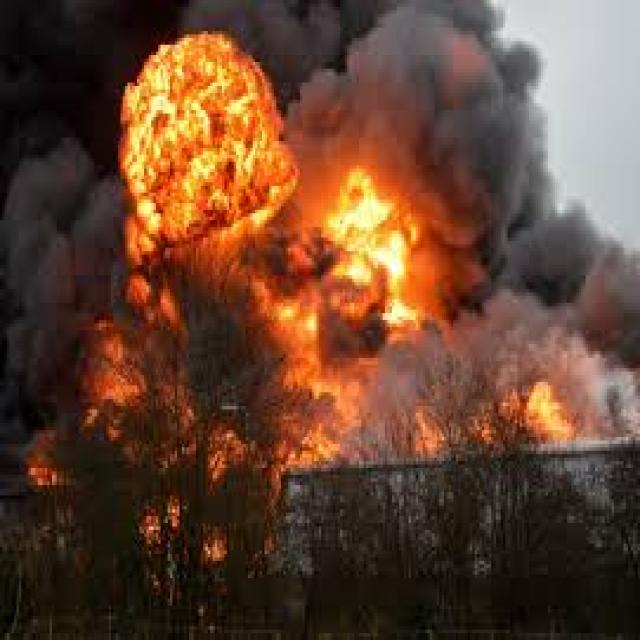fire: (88, 17, 442, 513), (526, 378, 578, 437)
